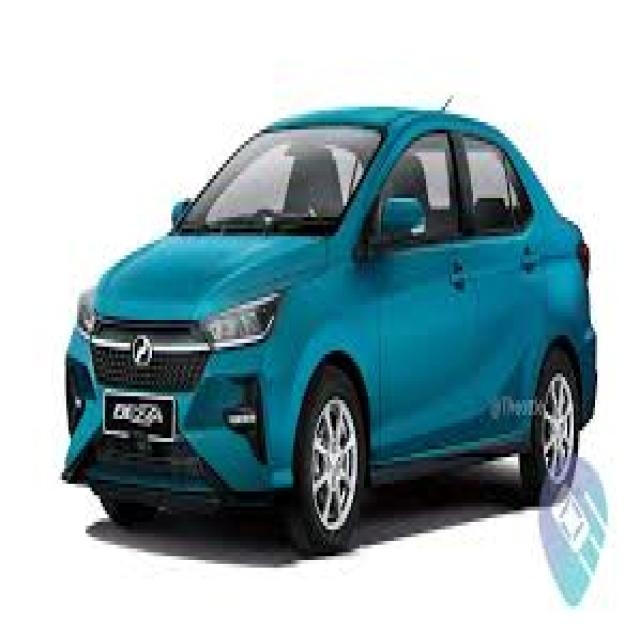PeroduaBezza: (60, 95, 597, 556)
